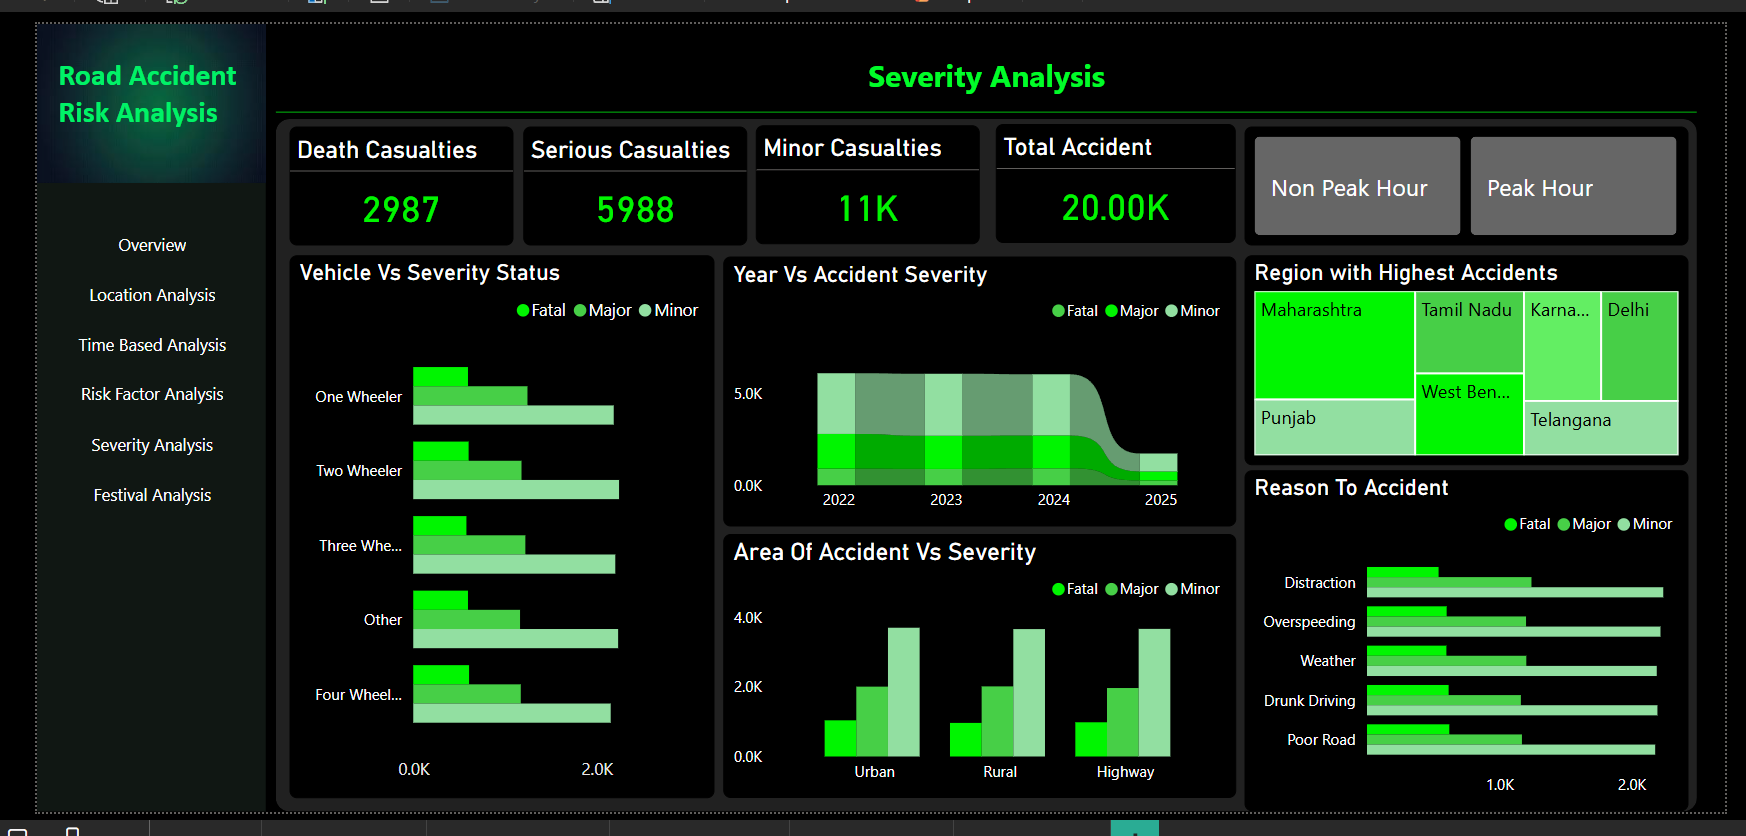

This screenshot's page, from the dashboard's own definition file:
{"tool":"powerbi","page":{"name":"Severity Analysis","canvas":[1350,630],"ordinal":4},"visuals":[{"type":"shape","box":[0,0,183,630],"z":0},{"type":"image","box":[0,0,183,127],"z":1000},{"type":"textbox","box":[12,21,160,85],"z":2000},{"type":"actionButton","box":[12,156,160,40],"z":3000},{"type":"actionButton","box":[12,196,160,40],"z":4000},{"type":"actionButton","box":[12,236,160,40],"z":5000},{"type":"actionButton","box":[12,275,160,40],"z":6000},{"type":"actionButton","box":[12,316,160,40],"z":7000},{"type":"actionButton","box":[12,356,160,40],"z":8000},{"type":"shape","box":[191,65,1137,11],"z":9000},{"type":"shape","box":[191,76,1137,554],"z":10000},{"type":"textbox","box":[653,20,213,44],"z":11000},{"type":"lineClusteredColumnComboChart","title":"Area Of Accident Vs Severity","fields":{"Category":["public accidents.road_type"],"Y":["Count(public accidents.accident_id)"],"Series":["public accidents.accident_severity"]},"box":[549,408,410,211],"z":12000},{"type":"ribbonChart","title":"Year Vs Accident Severity","fields":{"Category":["public accidents.Year"],"Series":["public accidents.accident_severity"],"Y":["Count(public accidents.accident_id)"]},"box":[549,186,410,216],"z":13000},{"type":"clusteredBarChart","title":"Reason To Accident","fields":{"Category":["public accidents.cause"],"Y":["Count(public accidents.accident_id)"],"Series":["public accidents.accident_severity"]},"box":[966,357,355,273],"z":14000},{"type":"treemap","title":"Region with Highest Accidents","fields":{"Values":["Count(public accidents.accident_id)"],"Group":["public accidents.state"]},"box":[966,185,355,168],"z":15000},{"type":"clusteredBarChart","title":"Vehicle Vs Severity Status","fields":{"Category":["public accidents.Vehicle"],"Y":["Count(public accidents.accident_id)"],"Series":["public accidents.accident_severity"]},"box":[202,185,340,434],"z":16000},{"type":"advancedSlicerVisual","fields":{"Values":["public accidents.Peak Hour Status"]},"box":[966,82,355,95],"z":17000},{"type":"card","title":"Total Accident","fields":{"Values":["Count(public accidents.accident_id)"]},"box":[767,80,192,95],"z":18000},{"type":"card","title":"Death Casualties","fields":{"Values":["public accidents.Total Fatal Accidents"]},"box":[202,82,179,95],"z":19000},{"type":"card","title":"Serious Casualties","fields":{"Values":["public accidents.Total Serious"]},"box":[389,82,179,95],"z":20000},{"type":"card","title":"Minor Casualties","fields":{"Values":["public accidents.Measure"]},"box":[575,81,179,95],"z":21000}]}

Visuals, with their boxes on the page's 1350x630 design canvas (x1, y1, x2, y2). These are canvas units, not pixel positions in the 1746x836 screenshot, which may show the page scaled, cropped or inside an application window:
shape: <region>0, 0, 183, 630</region>
image: <region>0, 0, 183, 127</region>
textbox: <region>12, 21, 172, 106</region>
actionButton: <region>12, 156, 172, 196</region>
actionButton: <region>12, 196, 172, 236</region>
actionButton: <region>12, 236, 172, 276</region>
actionButton: <region>12, 275, 172, 315</region>
actionButton: <region>12, 316, 172, 356</region>
actionButton: <region>12, 356, 172, 396</region>
shape: <region>191, 65, 1328, 76</region>
shape: <region>191, 76, 1328, 630</region>
textbox: <region>653, 20, 866, 64</region>
"Area Of Accident Vs Severity" lineClusteredColumnComboChart: <region>549, 408, 959, 619</region>
"Year Vs Accident Severity" ribbonChart: <region>549, 186, 959, 402</region>
"Reason To Accident" clusteredBarChart: <region>966, 357, 1321, 630</region>
"Region with Highest Accidents" treemap: <region>966, 185, 1321, 353</region>
"Vehicle Vs Severity Status" clusteredBarChart: <region>202, 185, 542, 619</region>
advancedSlicerVisual - public accidents.Peak Hour Status: <region>966, 82, 1321, 177</region>
"Total Accident" card: <region>767, 80, 959, 175</region>
"Death Casualties" card: <region>202, 82, 381, 177</region>
"Serious Casualties" card: <region>389, 82, 568, 177</region>
"Minor Casualties" card: <region>575, 81, 754, 176</region>
